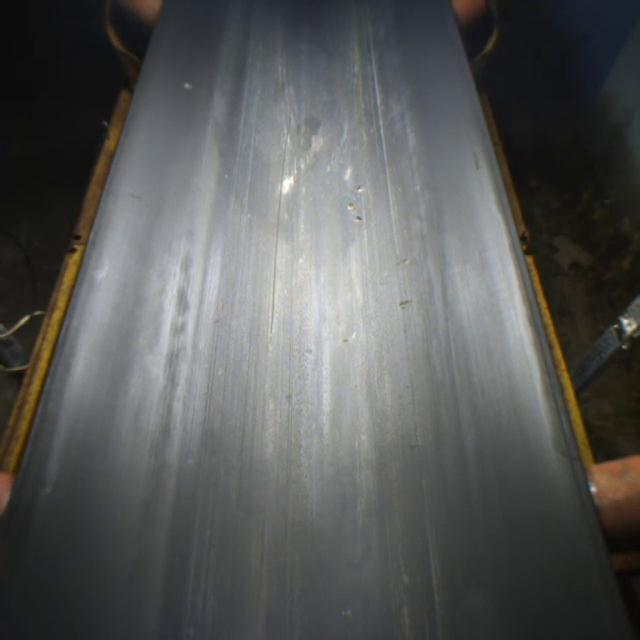Puncture: (343, 200, 357, 212), (352, 183, 363, 194), (354, 214, 366, 224)
